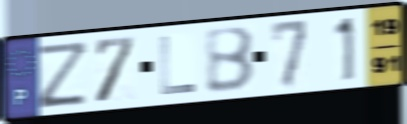1: (332, 15, 357, 84)
7: (93, 34, 138, 106), (269, 16, 310, 92)
B: (203, 24, 257, 96)
L: (157, 34, 198, 98)
Z: (35, 38, 92, 111)
